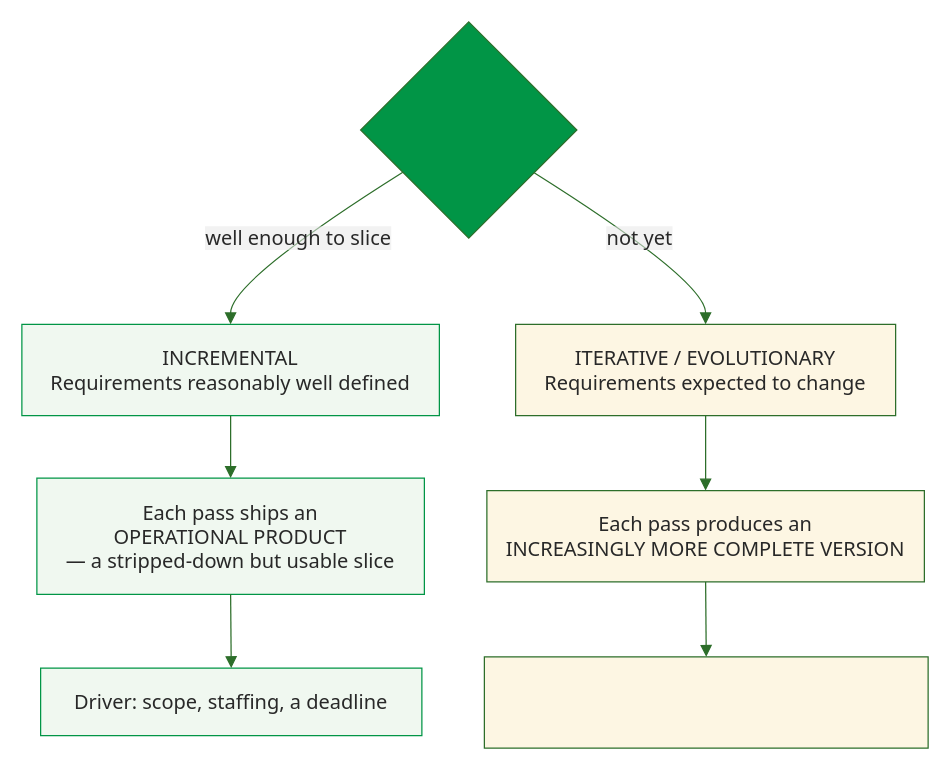
The diagram is 950 pixels wide and 770 high, and some of its shapes have lost their labels. The shapes that lost their labels are listed below. From the top down, each one's box as (x1, y1, x2, y2) in pixels, then its label:
(359, 21, 577, 238): Requirements known?
(483, 656, 928, 748): Driver: uncertainty — the feedback is part of the deliverable
